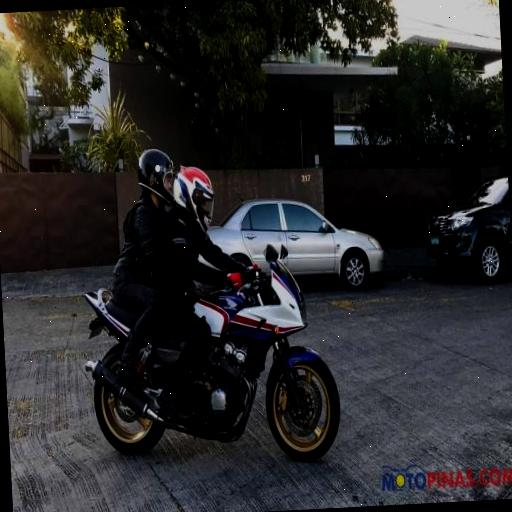helmet: (168, 136, 288, 454)
